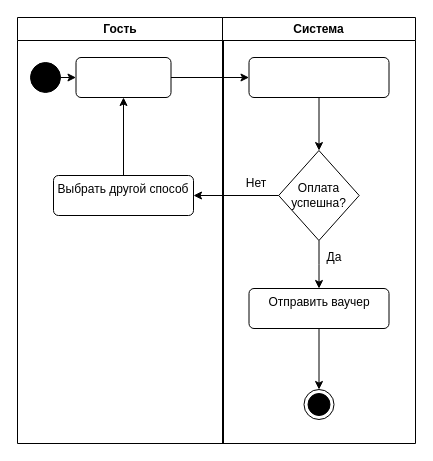
The diagram is 433 pixels wide and 461 high, and some of its shapes have lost their labels. Here are the shapes that lost their labels. From the top down, the centre of each, then its label:
(123,77): Ввести данные карты
(318,77): Проверить оплату
